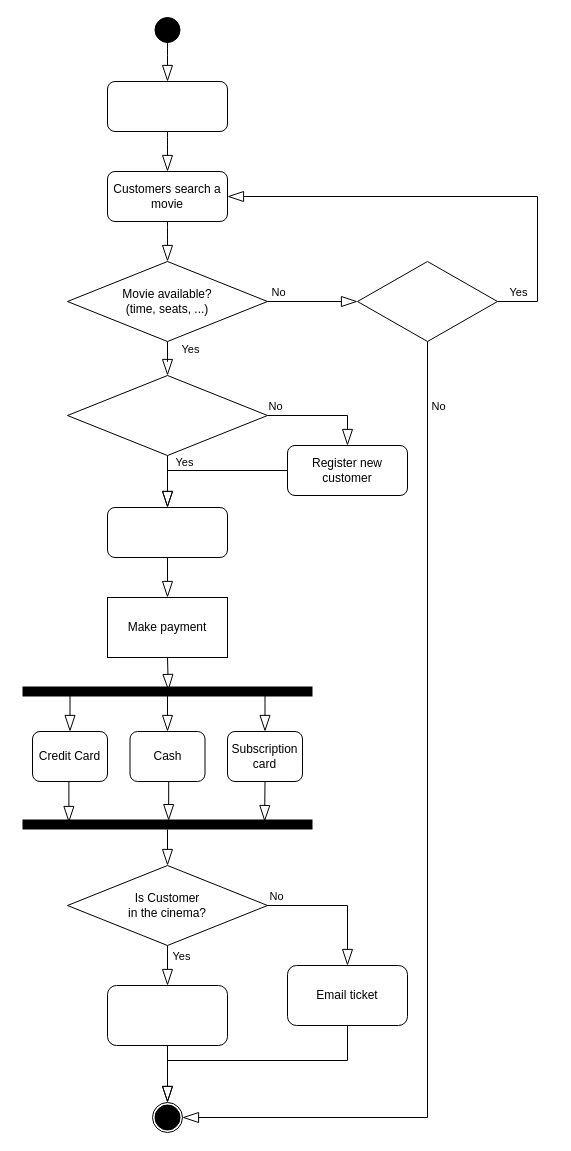
Some shapes in this 571 by 1151 pixel diagram are drawn without their labels. Each missing label, with the centre of its shape:
"Customer already registered?" belongs at point 167,415.
"Customer chooses seats" belongs at point 167,532.
"Customers are in the cinema or online" belongs at point 167,106.
"Print ticket" belongs at point 167,1015.
"See another movie?" belongs at point 427,301.
